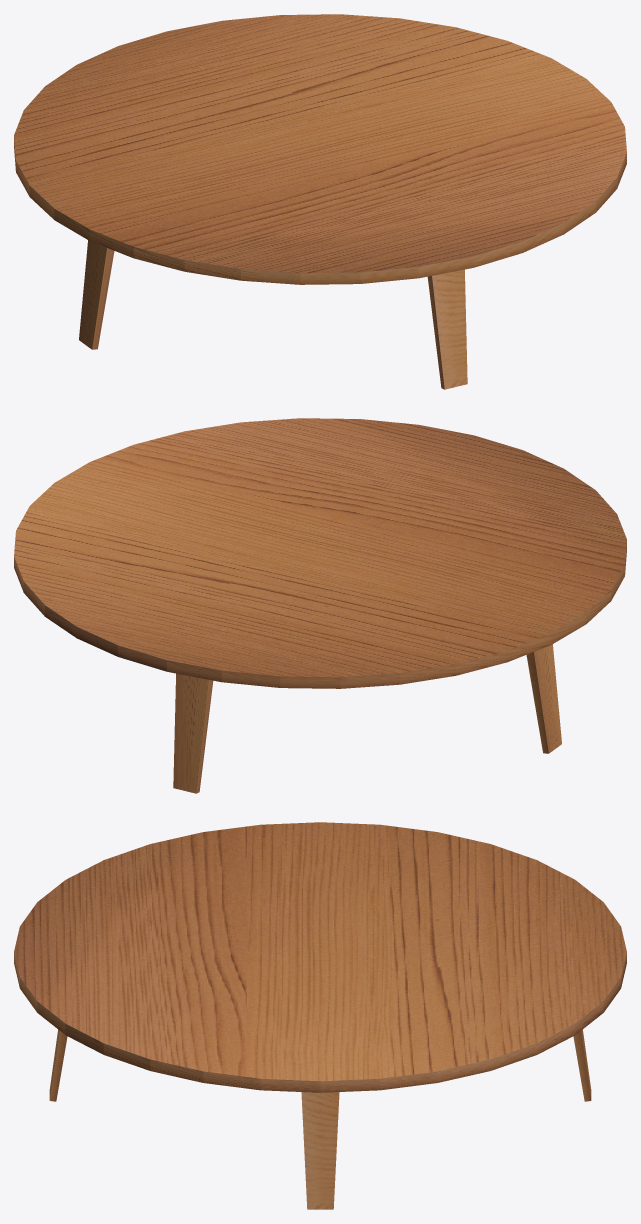
Rendered from ちゃぶ台.fbx.
The picture shows the model from 3 angles, top to bottom: view 1: azimuth 30°, elevation 25°; view 2: azimuth 150°, elevation 25°; view 3: azimuth 270°, elevation 25°; orthographic projection.
Visible parts, largest first — view 1: Cube; view 2: Cube; view 3: Cube.
Boxes of the visible parts, box(x1,y1,x2,y2) form: Cube: box(14, 14, 626, 389); Cube: box(14, 418, 626, 793); Cube: box(14, 822, 626, 1209).
Size of the model in its own units: 1200 by 1200 by 312.
